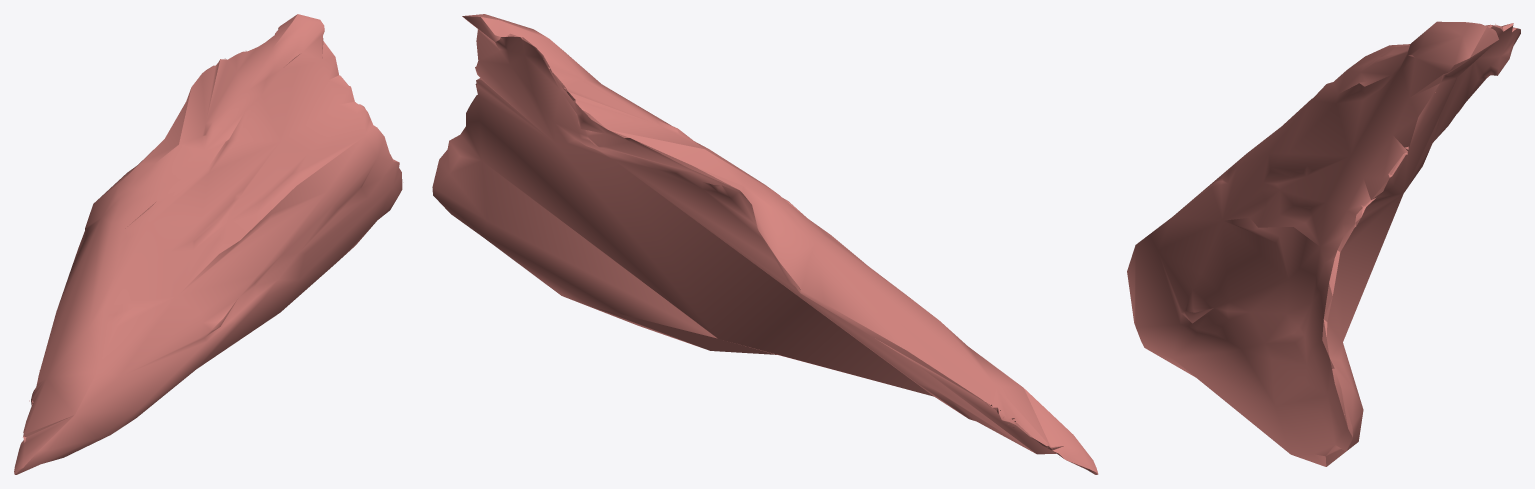
File: fma37390_fj1501.glb
3 renders of one model, left to right at view 1: azimuth 30°, elevation 25°; view 2: azimuth 150°, elevation 25°; view 3: azimuth 270°, elevation 25°, orthographic. The views are drawn at different scales.
Parts seen in each view (by area): view 1: FMA37390_FJ1501; view 2: FMA37390_FJ1501; view 3: FMA37390_FJ1501.
Part boxes in pixels (box(x1,y1,x2,y2)): FMA37390_FJ1501: box(14, 14, 402, 474); FMA37390_FJ1501: box(432, 14, 1098, 474); FMA37390_FJ1501: box(1127, 21, 1520, 466).
Size of the model in its own units: 0.0478 by 0.0322 by 0.0186.
